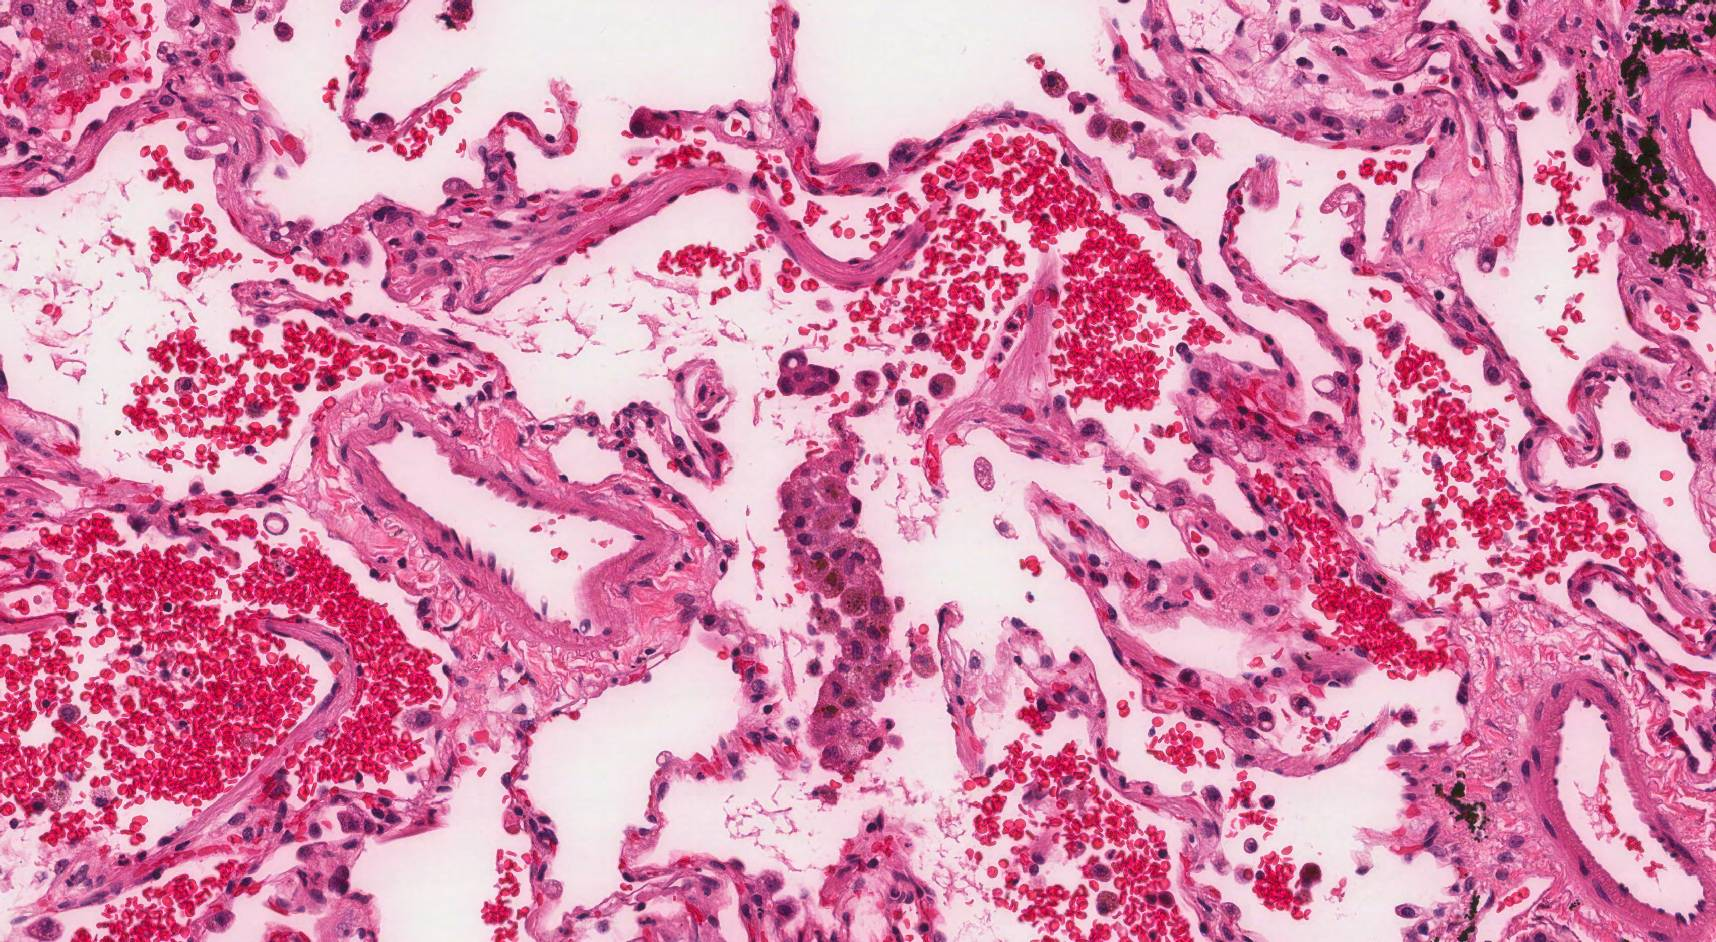stas: (774, 350, 841, 399)
